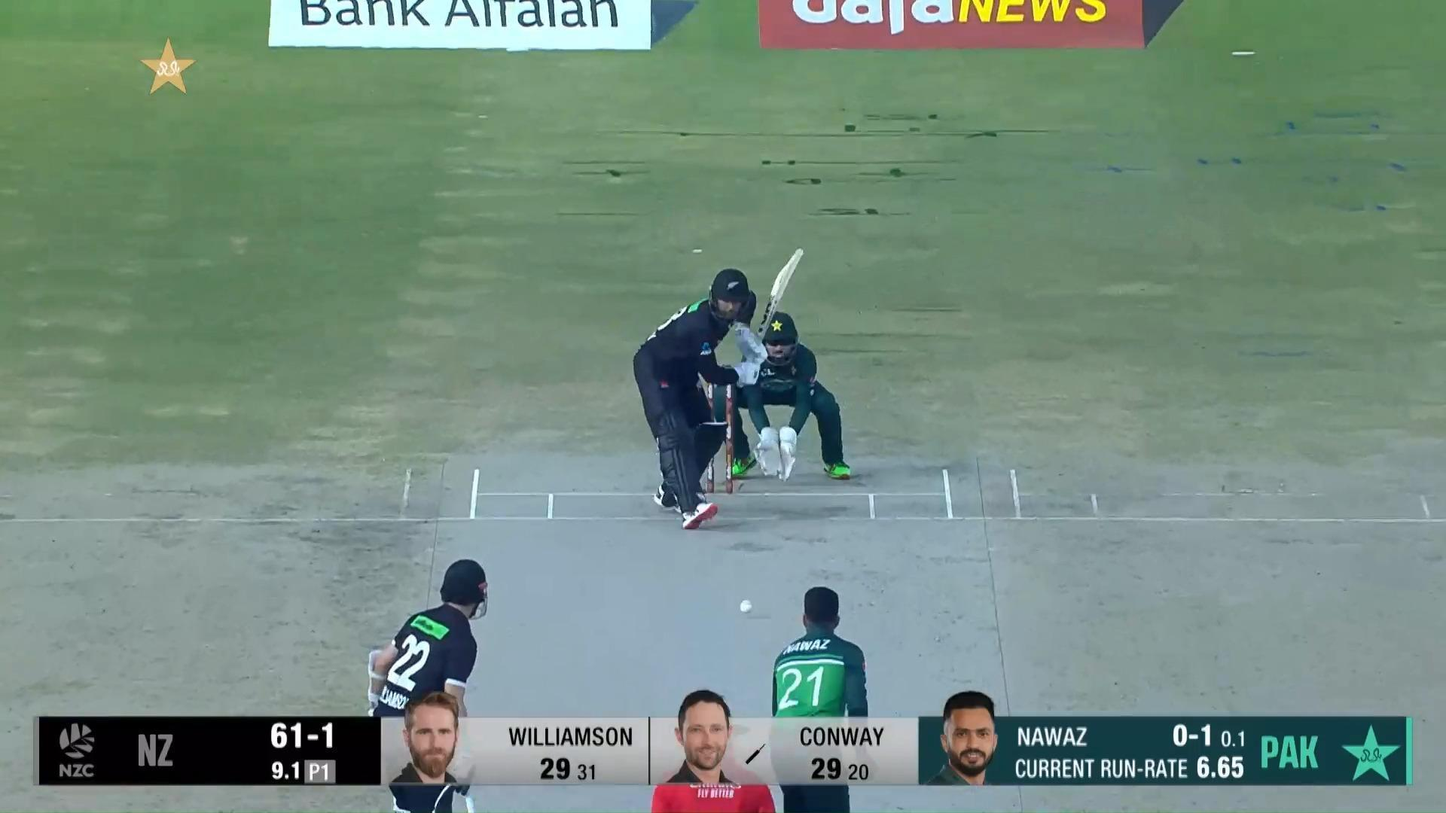BM 1: (633, 248, 805, 530)
BO: (770, 586, 880, 813)
